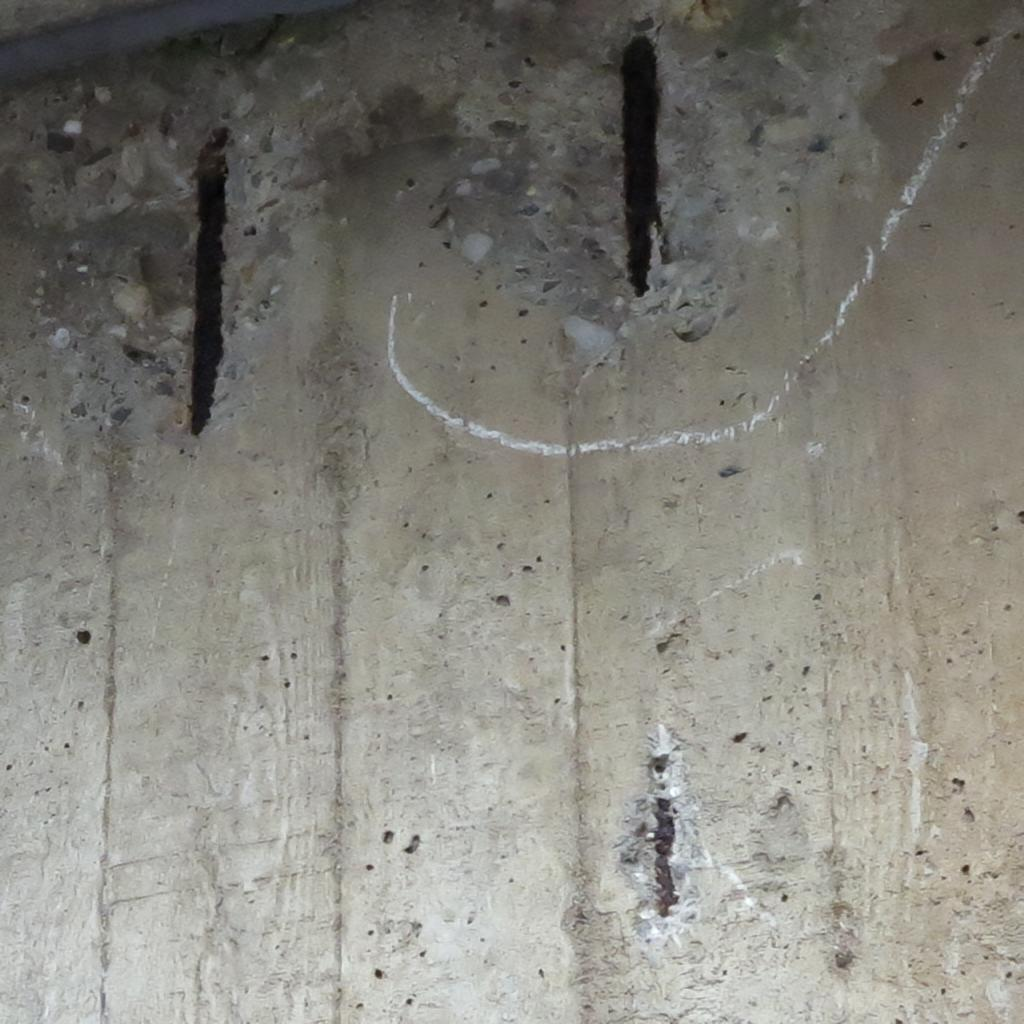exposed_rebar: (190, 128, 228, 433), (622, 36, 660, 295), (652, 798, 678, 916)
spalling: (0, 0, 902, 454), (618, 724, 714, 942)
